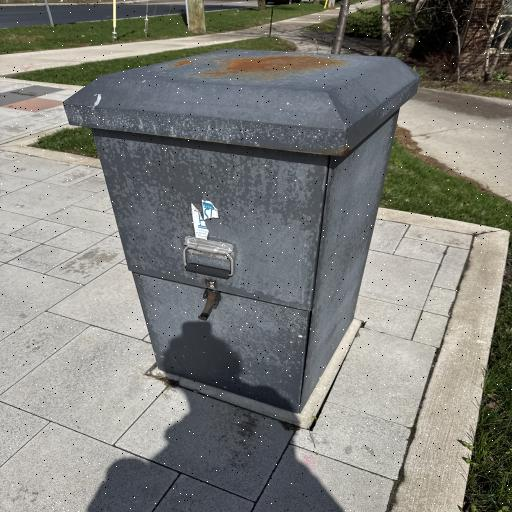Electrical Box: (66, 47, 416, 411)
